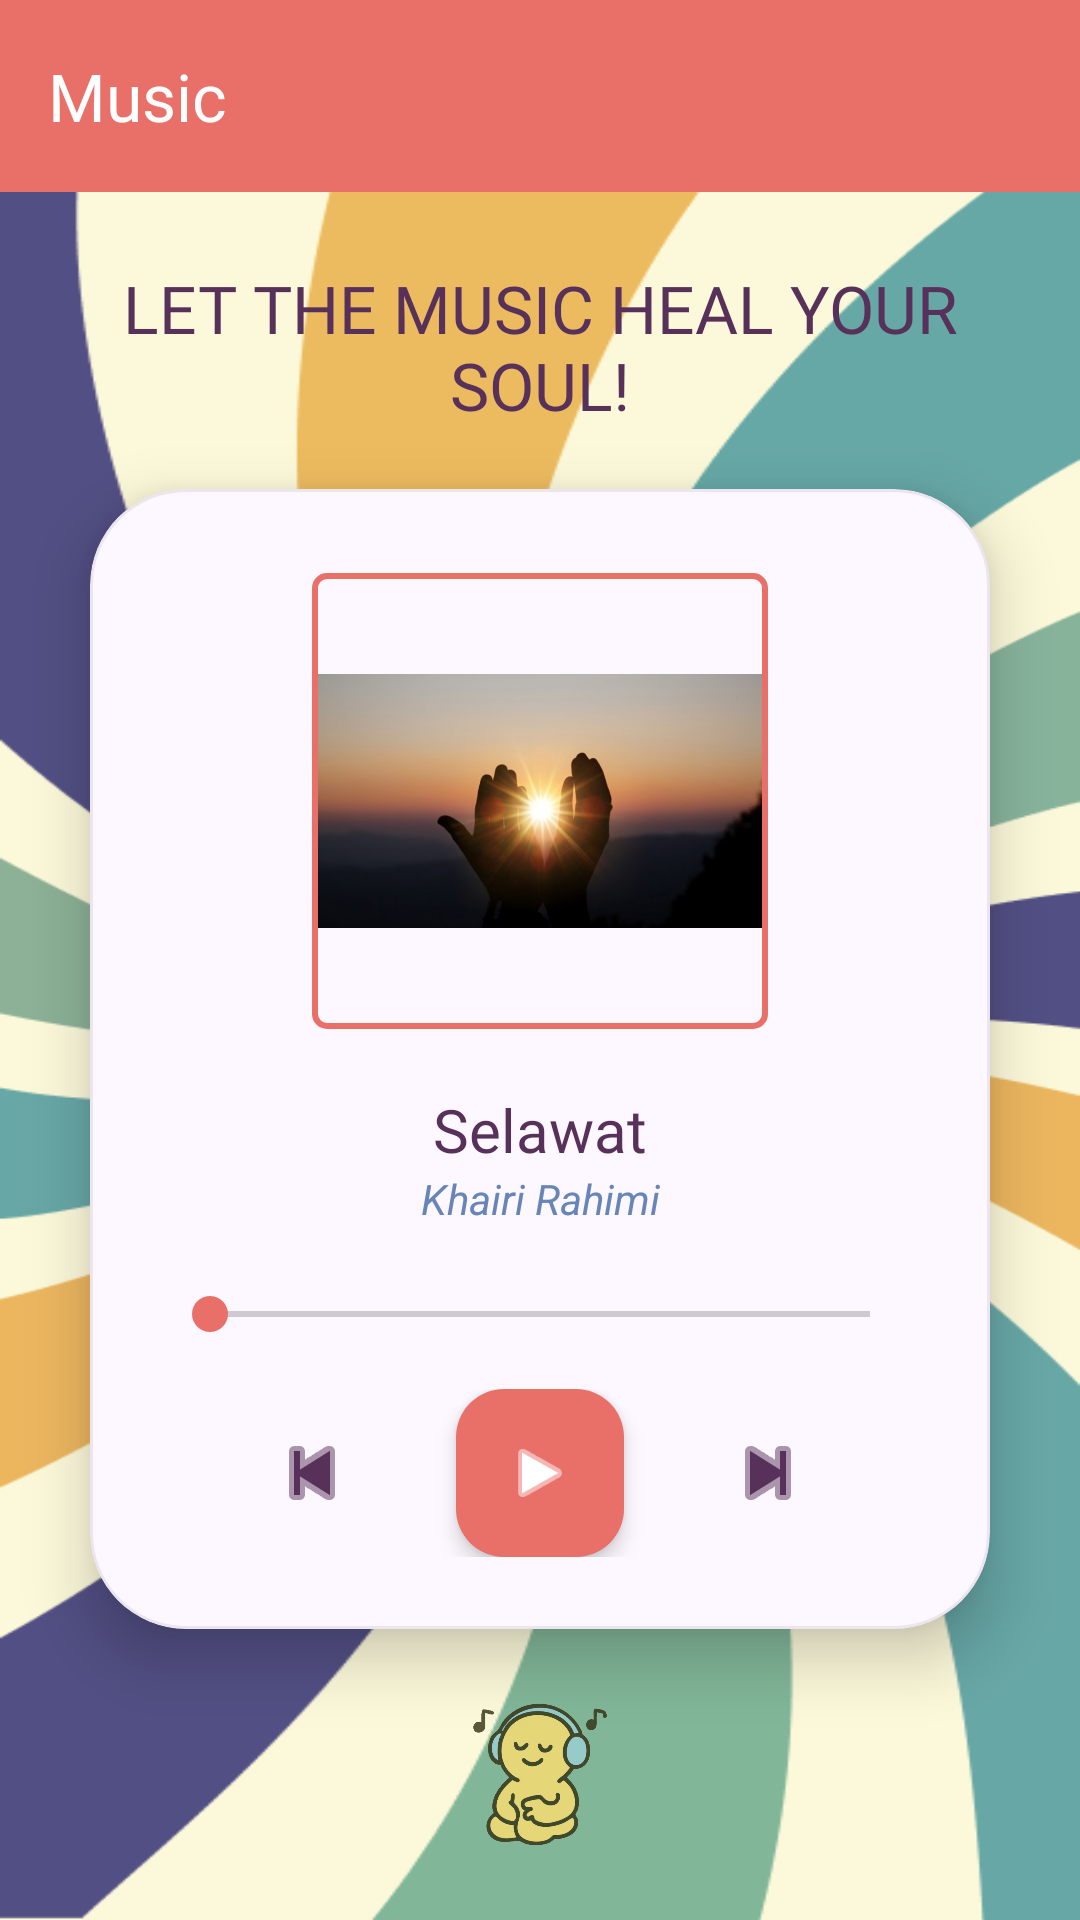

Where to tap for icons on this 1080px×1920px app screen, as point (x, y):
next: point (768, 1473)
play: point (540, 1473)
previous: point (312, 1473)
